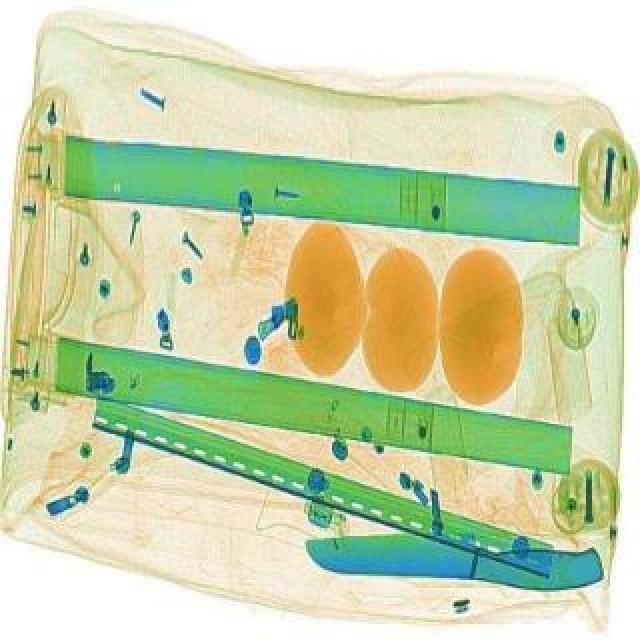knife: (306, 516, 606, 588)
